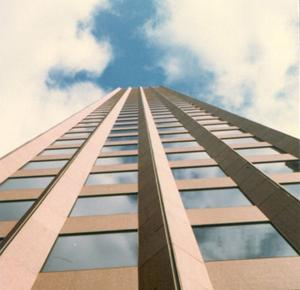building: (0, 84, 300, 290)
